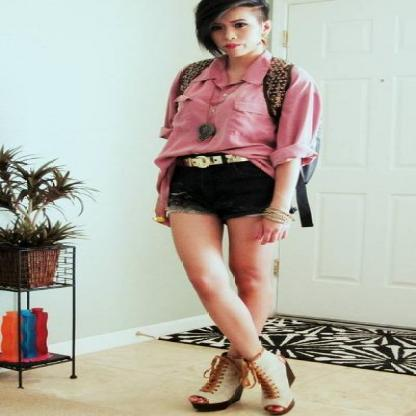bag: (173, 50, 326, 210)
shirt: (154, 61, 318, 178)
shoe: (200, 344, 298, 415)
shorts: (168, 158, 274, 224)
